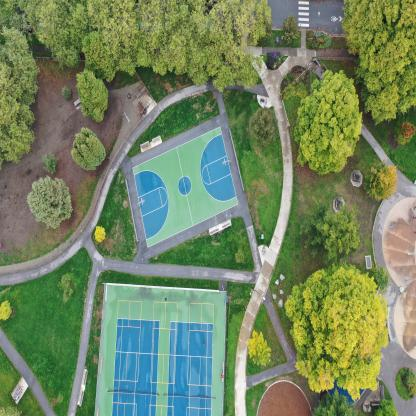Coniferous Tree: (306, 206, 360, 264), (28, 176, 72, 232), (72, 72, 112, 127), (67, 127, 105, 175), (308, 388, 358, 416), (85, 33, 107, 72), (250, 113, 274, 144), (396, 366, 416, 400), (372, 397, 400, 416), (396, 122, 416, 147), (42, 150, 58, 175), (61, 274, 74, 296), (61, 87, 72, 101)
Deciduous Tree: (290, 267, 384, 400), (344, 0, 416, 122), (296, 76, 361, 170), (204, 0, 268, 91), (108, 0, 152, 81), (156, 0, 201, 79), (0, 0, 39, 88), (39, 0, 80, 68), (0, 86, 38, 155), (369, 158, 398, 204), (247, 328, 272, 371), (93, 222, 106, 243), (0, 298, 11, 322)
